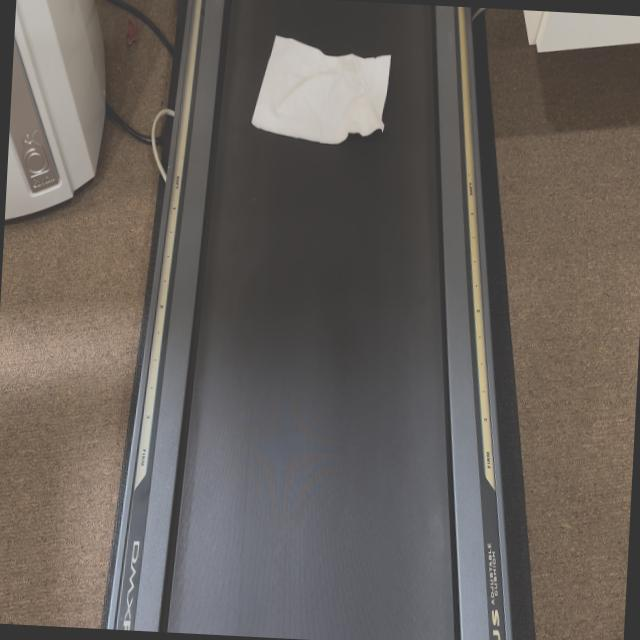Recycle: (248, 29, 396, 153)
